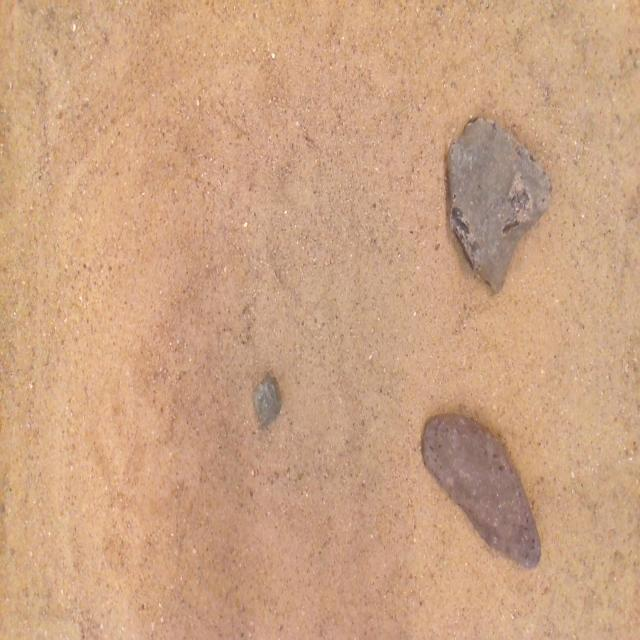rock: (422, 414, 540, 567), (448, 119, 551, 292), (253, 376, 280, 427)
